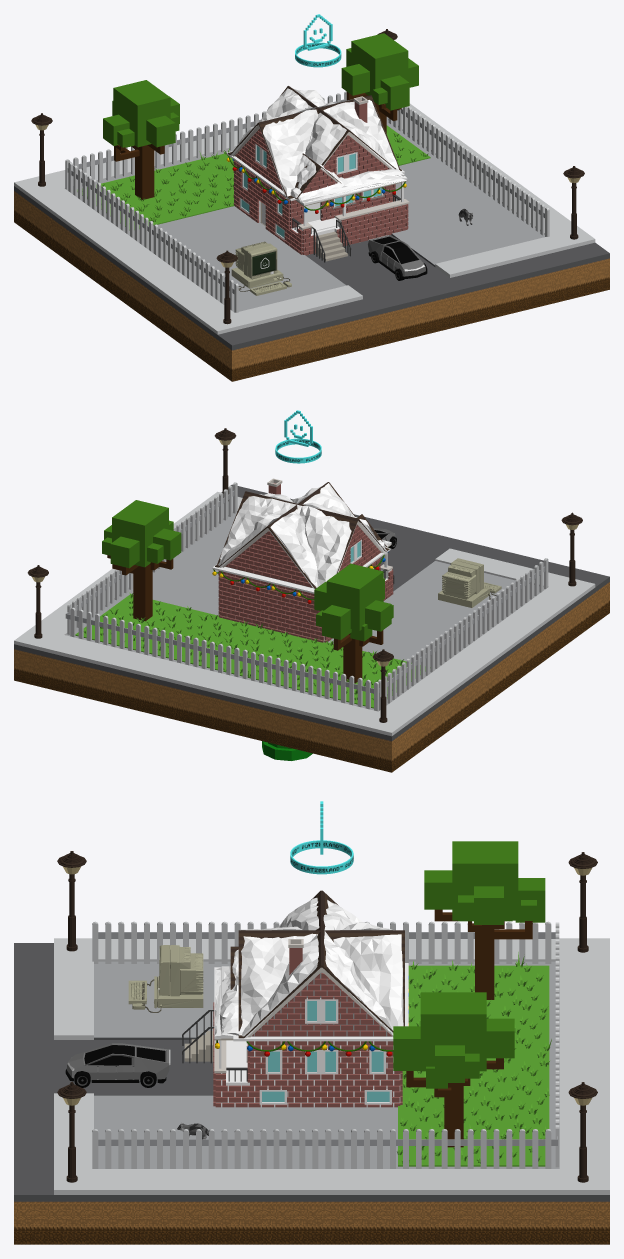
The picture shows the model from 3 angles, top to bottom: view 1: azimuth 30°, elevation 25°; view 2: azimuth 150°, elevation 25°; view 3: azimuth 270°, elevation 25°; orthographic projection. The views are drawn at different scales.
Parts seen in each view (by area): view 1: Cube.004, Cube.1419, OBJRANDOM_RETRO_PC, VEHICLES_CYBERTRUCK, TYPE_PREMIUM; view 2: Cube.004, Cube.1419, OBJRANDOM_RETRO_PC, TYPE_PREMIUM, UNDERGROUND_PIPES; view 3: Cube.004, Cube.1419, VEHICLES_CYBERTRUCK, OBJRANDOM_RETRO_PC, TYPE_PREMIUM.
Boxes of the visible parts, x1=… form: Cube.004: x1=14, y1=29, x2=609, y2=381; Cube.1419: x1=226, y1=86, x2=409, y2=262; OBJRANDOM_RETRO_PC: x1=231, y1=241, x2=291, y2=295; VEHICLES_CYBERTRUCK: x1=368, y1=235, x2=427, y2=280; TYPE_PREMIUM: x1=295, y1=14, x2=341, y2=67; Cube.004: x1=14, y1=428, x2=609, y2=772; Cube.1419: x1=212, y1=478, x2=394, y2=642; OBJRANDOM_RETRO_PC: x1=438, y1=558, x2=501, y2=607; TYPE_PREMIUM: x1=275, y1=410, x2=321, y2=463; UNDERGROUND_PIPES: x1=262, y1=741, x2=312, y2=760; Cube.004: x1=14, y1=841, x2=609, y2=1244; Cube.1419: x1=182, y1=890, x2=408, y2=1107; VEHICLES_CYBERTRUCK: x1=65, y1=1043, x2=170, y2=1087; OBJRANDOM_RETRO_PC: x1=128, y1=945, x2=203, y2=1012; TYPE_PREMIUM: x1=290, y1=801, x2=353, y2=874.
Size of the model in its own units: 4000 by 3050 by 4000.
38 materials, 4 textured.
